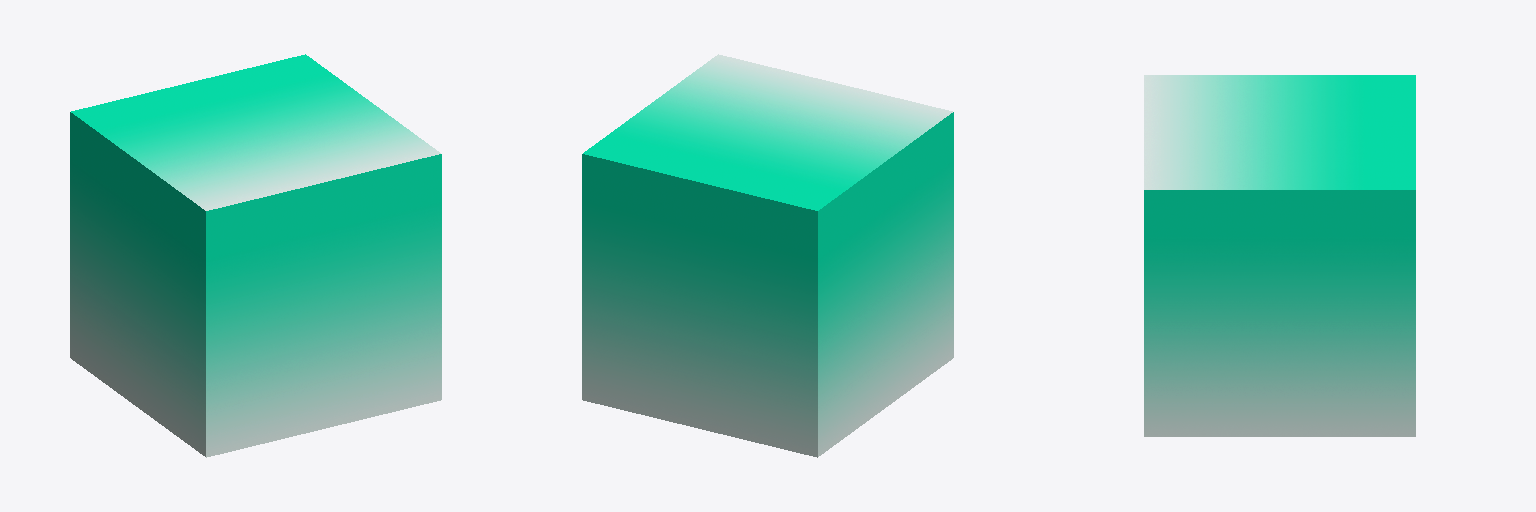
3 views of the same model, side by side, from view 1: azimuth 30°, elevation 25°; view 2: azimuth 150°, elevation 25°; view 3: azimuth 270°, elevation 25° (orthographic).
Visible parts, largest first — view 1: 立方体; view 2: 立方体; view 3: 立方体.
Part boxes in pixels (left/top/right/bottom): 立方体: left=70, top=54, right=441, bottom=457; 立方体: left=582, top=54, right=953, bottom=457; 立方体: left=1144, top=75, right=1415, bottom=436.
Size of the model in its own units: 200 by 200 by 200.
1 materials, 1 textured.